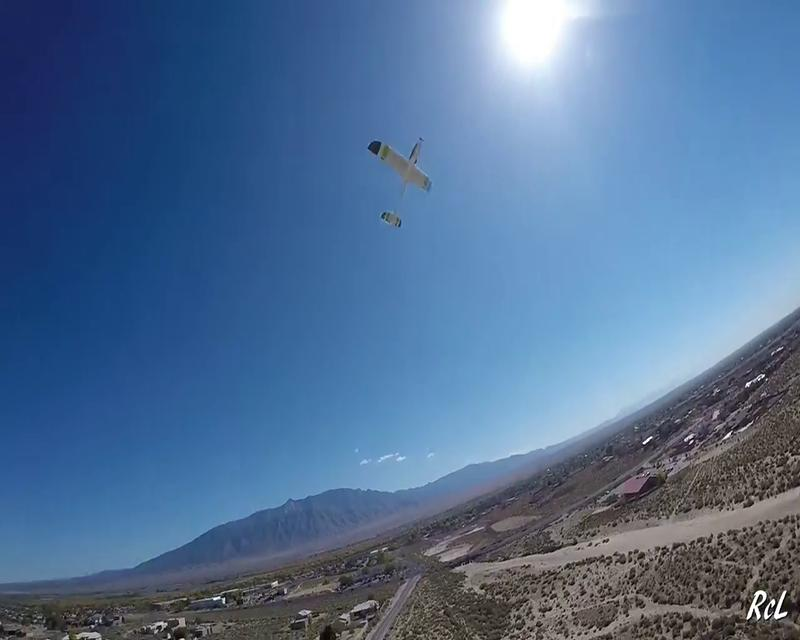UAV: (366, 137, 434, 229)
